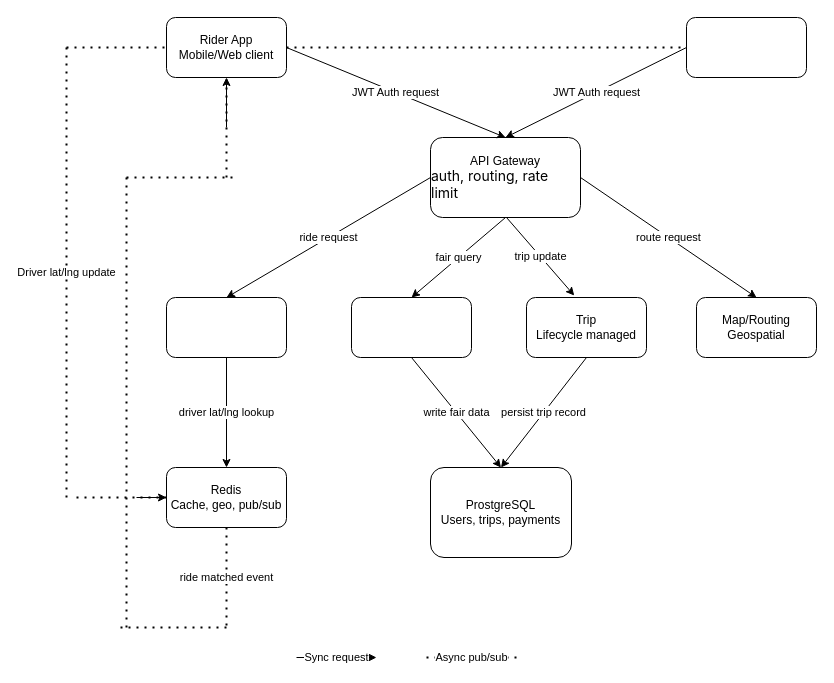
Some shapes in this 834 by 683 pixel diagram are drawn without their labels. Each missing label, with the centre of its shape:
"Dispatch Driver-Match" goes at [226,327].
"Driver App" goes at [746,47].
"Pricing Base fare + surge" goes at [411,327].
